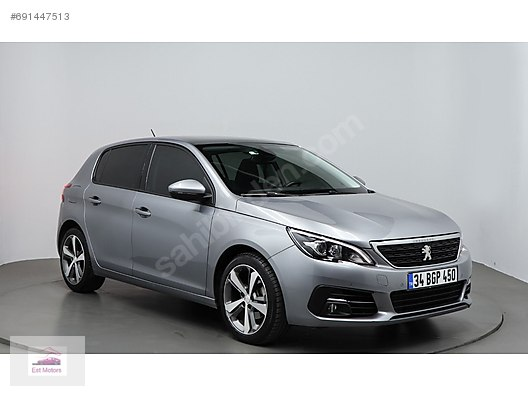peugeot: (51, 129, 485, 340)
